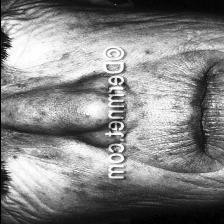Non-Cancerous Skin Condition: (128, 52, 184, 188), (40, 155, 102, 207), (46, 29, 100, 84), (0, 98, 70, 136)
